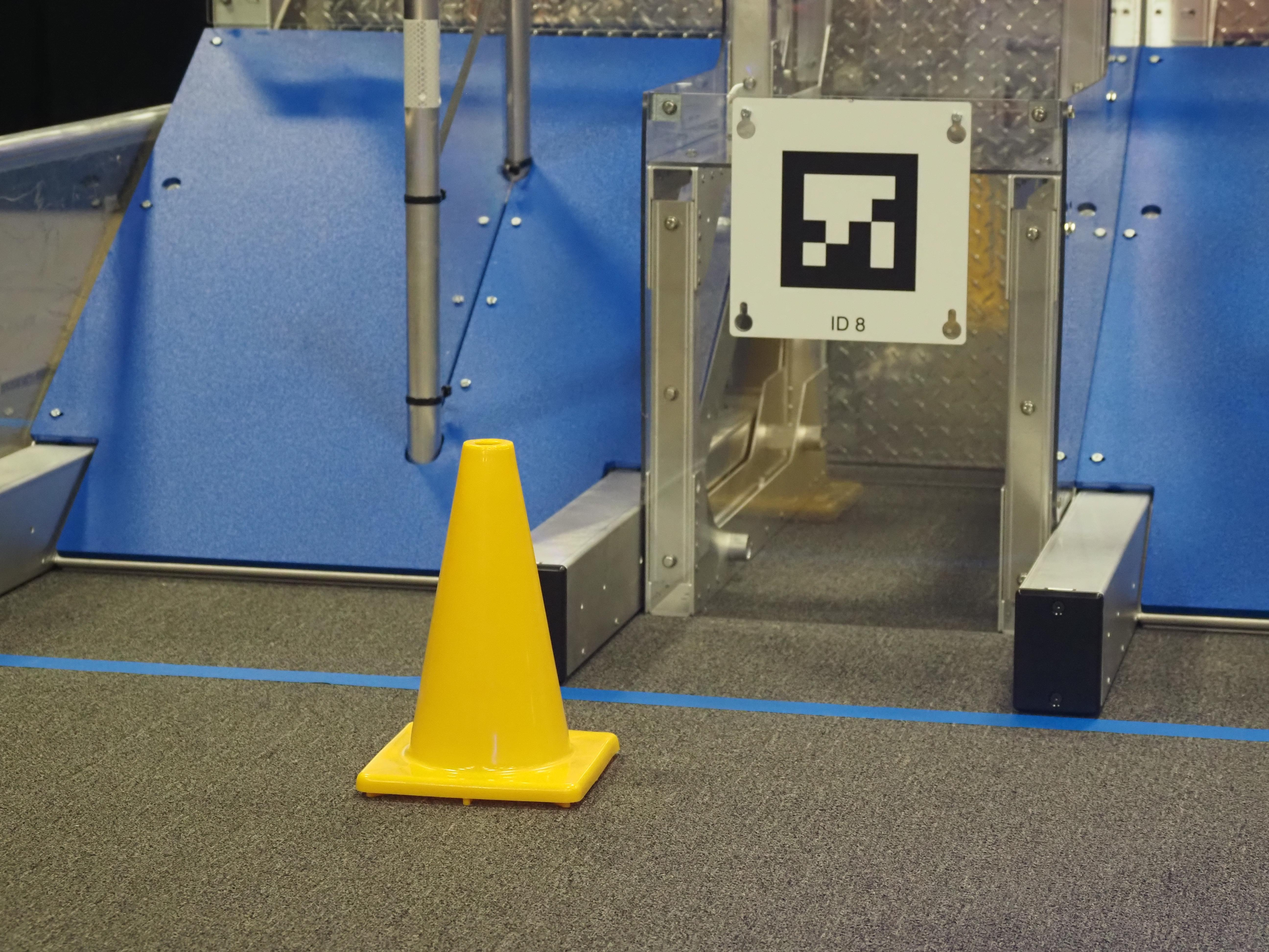cone: (349, 432, 622, 825)
